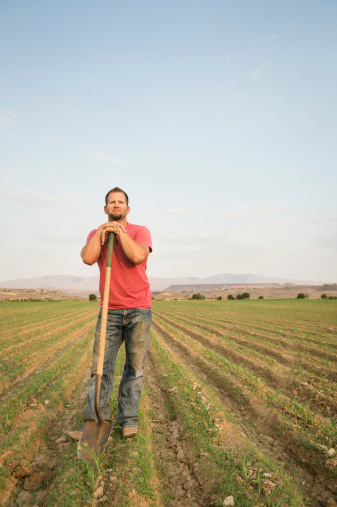em pe: (74, 167, 151, 426)
